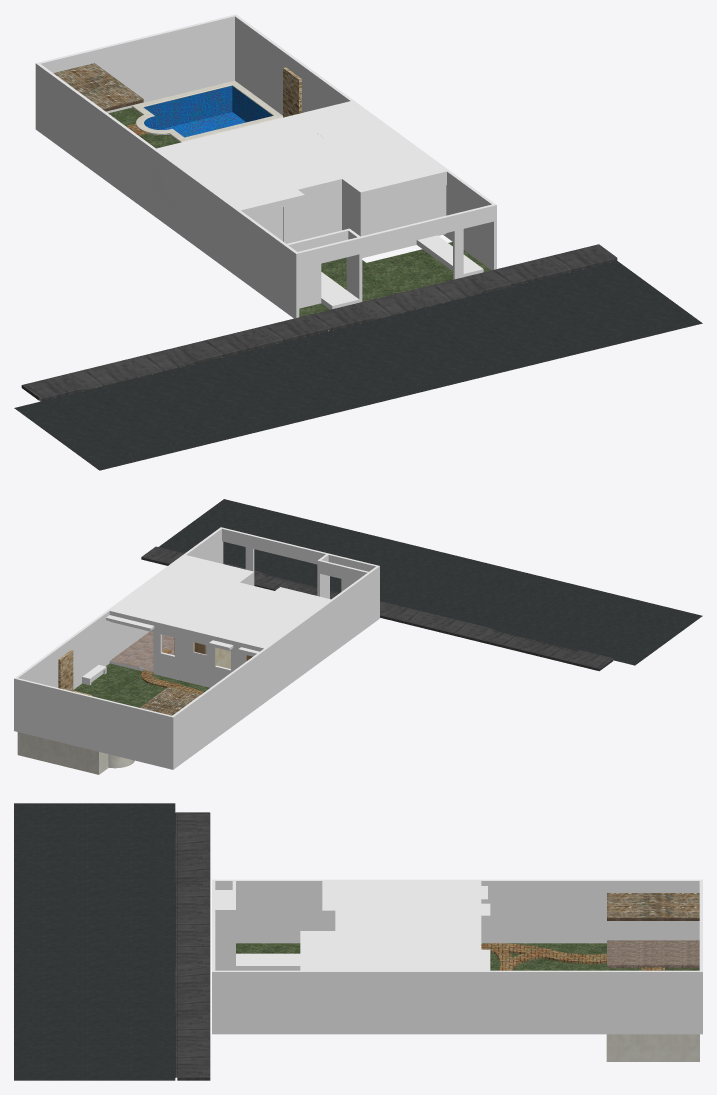
The model's file is chozav4.glb.
3 renders of one model, top to bottom at view 1: azimuth 30°, elevation 25°; view 2: azimuth 150°, elevation 25°; view 3: azimuth 270°, elevation 25°, orthographic. The views are drawn at different scales.
Parts seen in each view (by area): view 1: ChozaNuevaweb_28BE16F6; view 2: ChozaNuevaweb_28BE16F6; view 3: ChozaNuevaweb_28BE16F6.
Part boxes in pixels (bbox=[...]): ChozaNuevaweb_28BE16F6: bbox=[14, 14, 702, 470]; ChozaNuevaweb_28BE16F6: bbox=[14, 499, 702, 774]; ChozaNuevaweb_28BE16F6: bbox=[14, 803, 702, 1080].
Size of what is drawn, in the model's own units: 30.07 by 4.61 by 31.57.
Materials: 18 (16 with a texture image).
